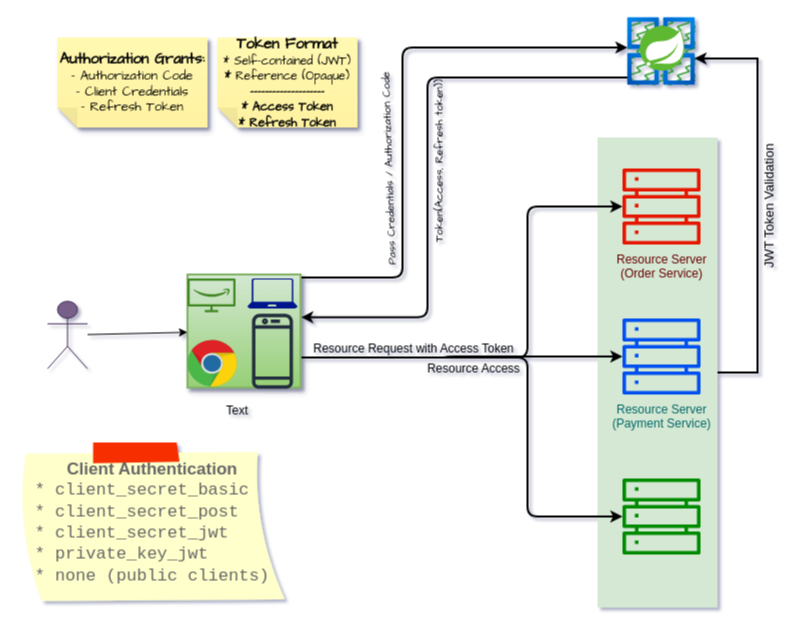
Some shapes in this 799 by 630 pixel diagram are drawn without their labels. The shapes that lost their labels are listed below. From the top down, each one's centre as x and y in pixels, then its label:
point 661,51: OAuth 2.1 Authorization Server
point 67,334: Resource Owner
point 661,516: Resource Server (Delivery Service)
